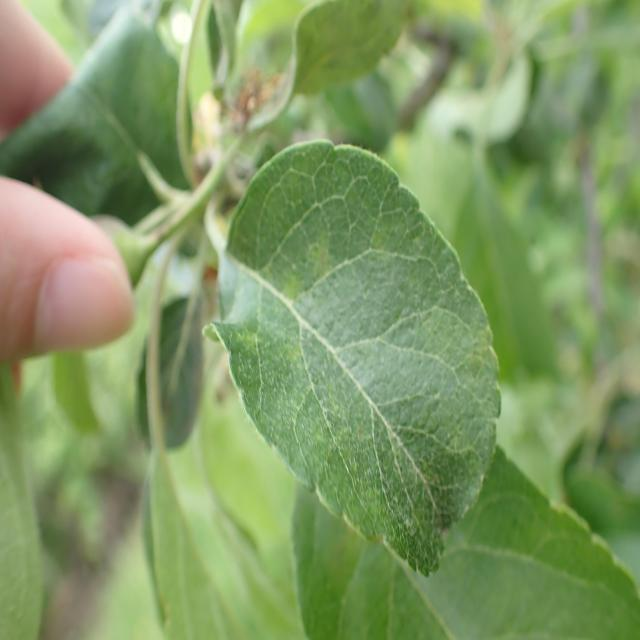scab: (247, 181, 490, 573)
